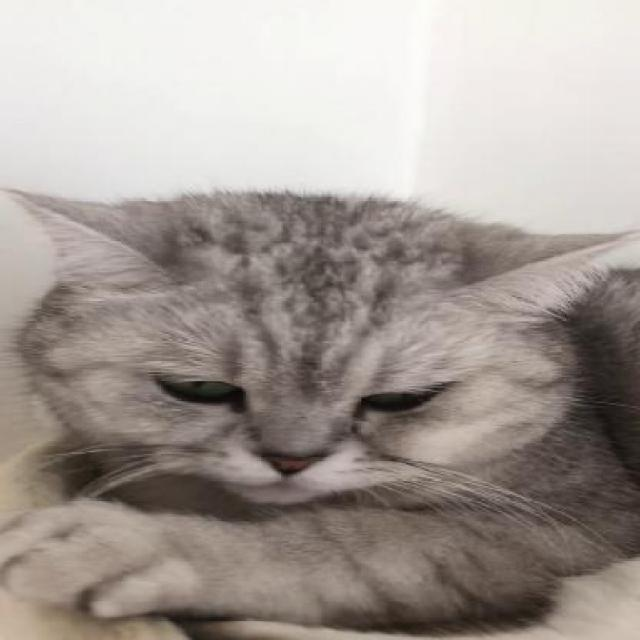cat-face: (3, 183, 640, 503)
